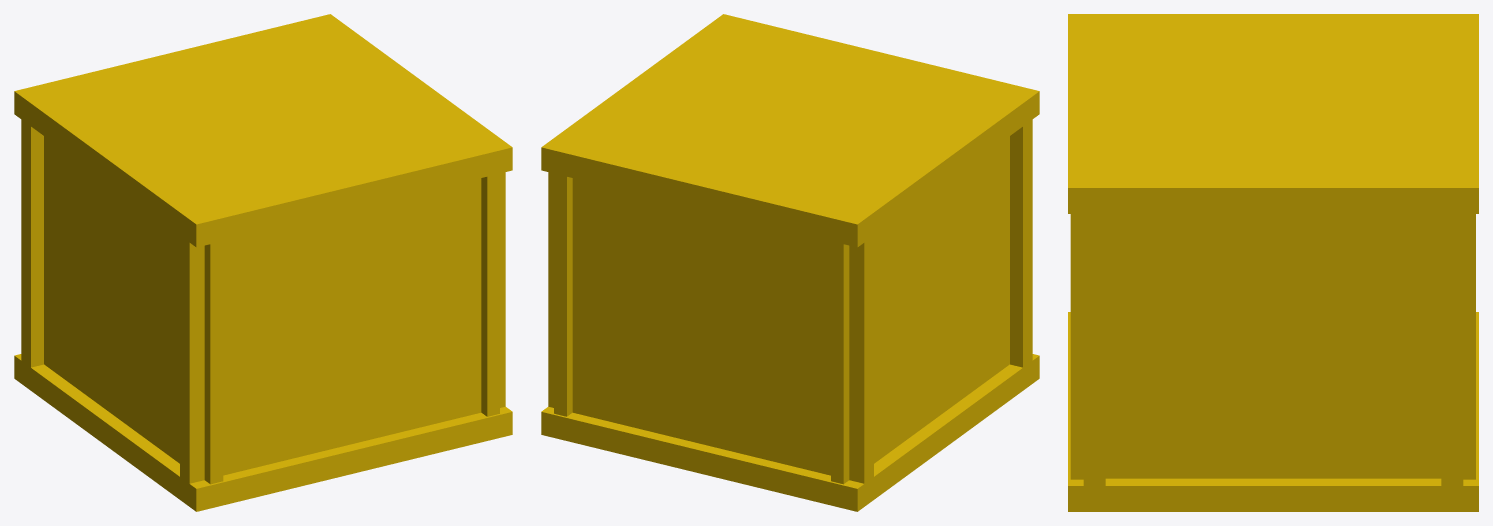
File: Crate.fbx
3 renders of one model, left to right at view 1: azimuth 30°, elevation 25°; view 2: azimuth 150°, elevation 25°; view 3: azimuth 270°, elevation 25°, orthographic. The views are drawn at different scales.
Parts seen in each view (by area): view 1: Crate; view 2: Crate; view 3: Crate.
Part boxes in pixels (x1,y1,x2,y2): Crate: (14, 14, 512, 511); Crate: (541, 14, 1039, 511); Crate: (1068, 14, 1478, 511).
Size of the model in its own units: 100 by 86.86 by 99.79.
